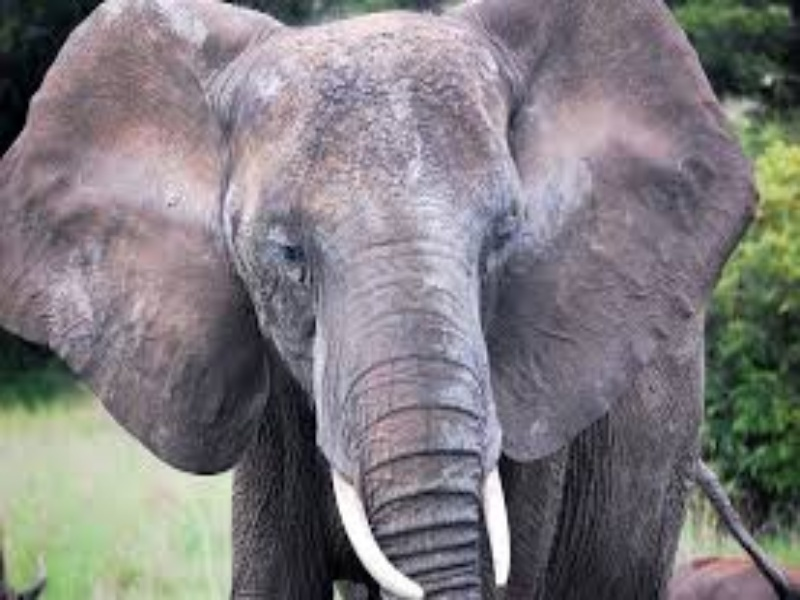elephant: (18, 34, 800, 600)
